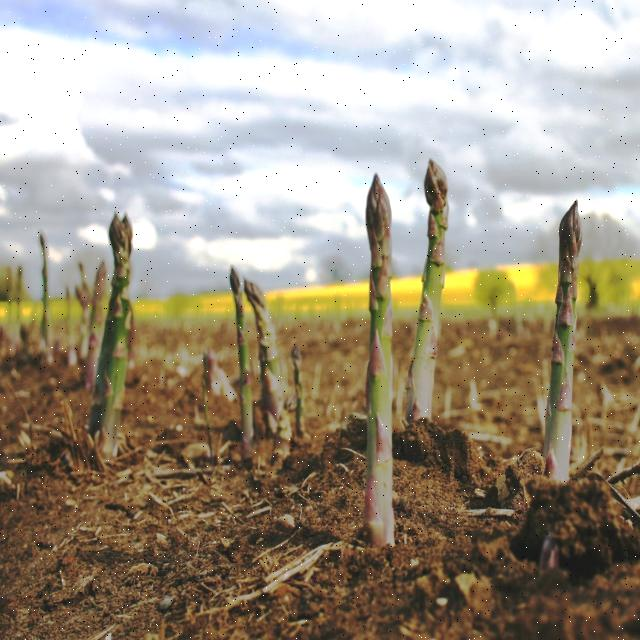aspargus: (364, 177, 396, 551), (545, 202, 582, 486), (409, 161, 448, 422)
